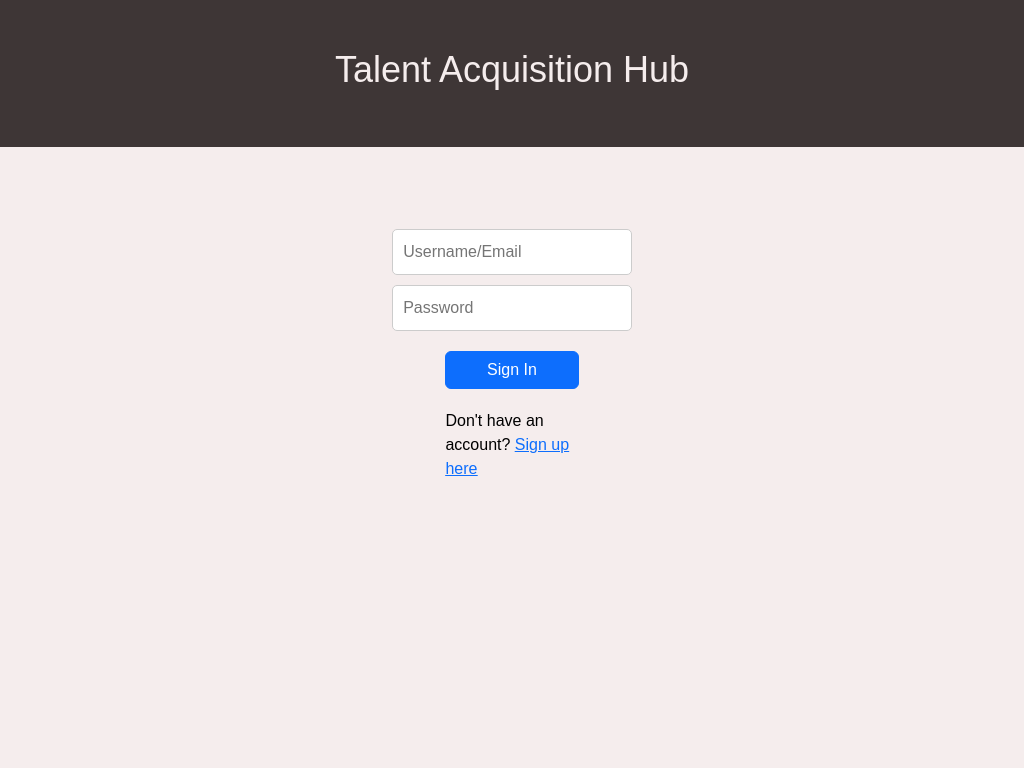
it: Login Page › should show an error message for invalid credentials
Type "invalidemail@example.com" into the field with placeholder "Username/Email".
click(512, 252); type("invalidemail@example.com")  # box [392, 229, 632, 275]
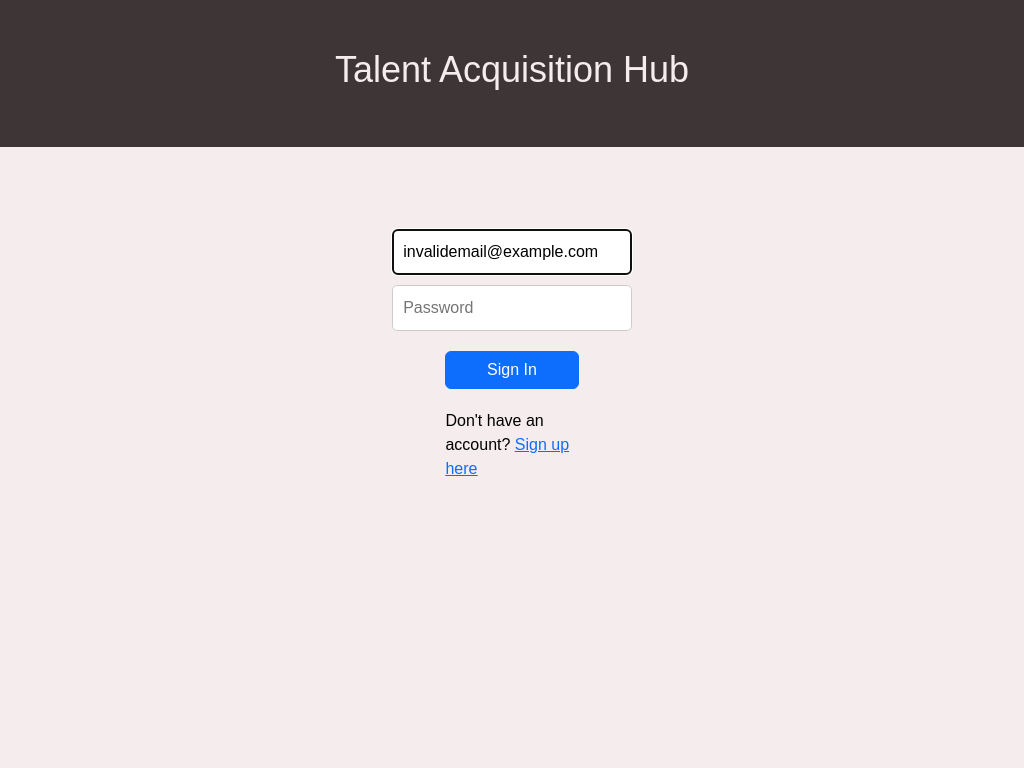
Type "invalidpassword" into the password field with placeholder "Password".
click(512, 308); type("invalidpassword")  # box [392, 285, 632, 331]
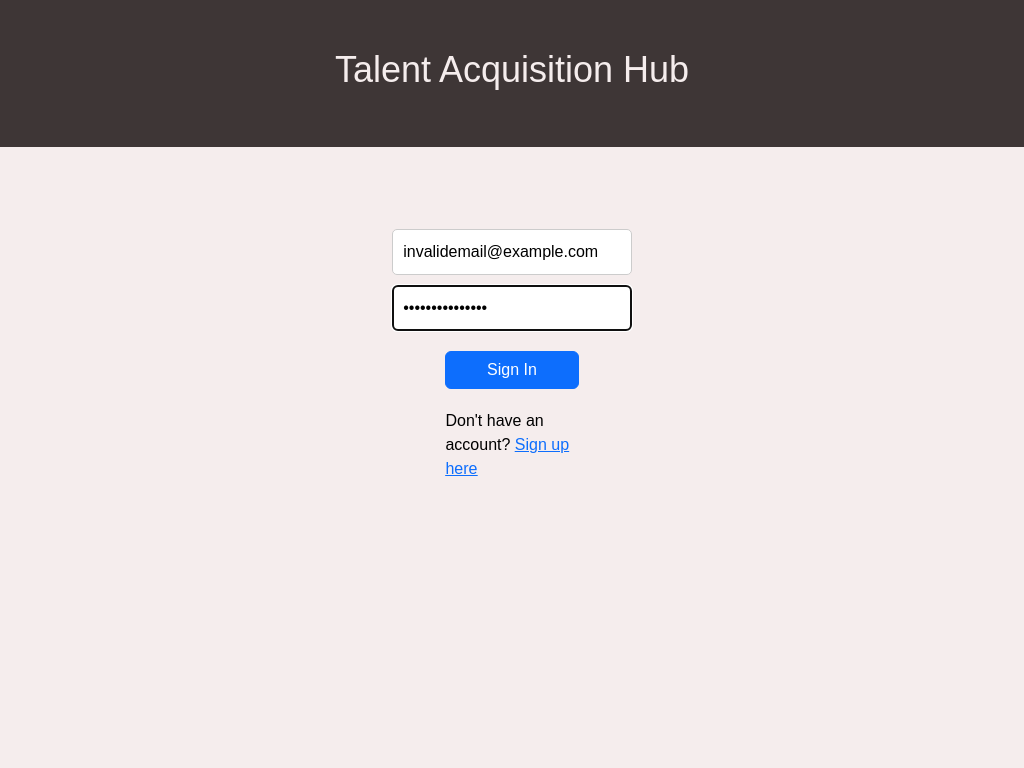
Click the button with class "cyan-button".
click(512, 370)  # box [445, 351, 578, 389]
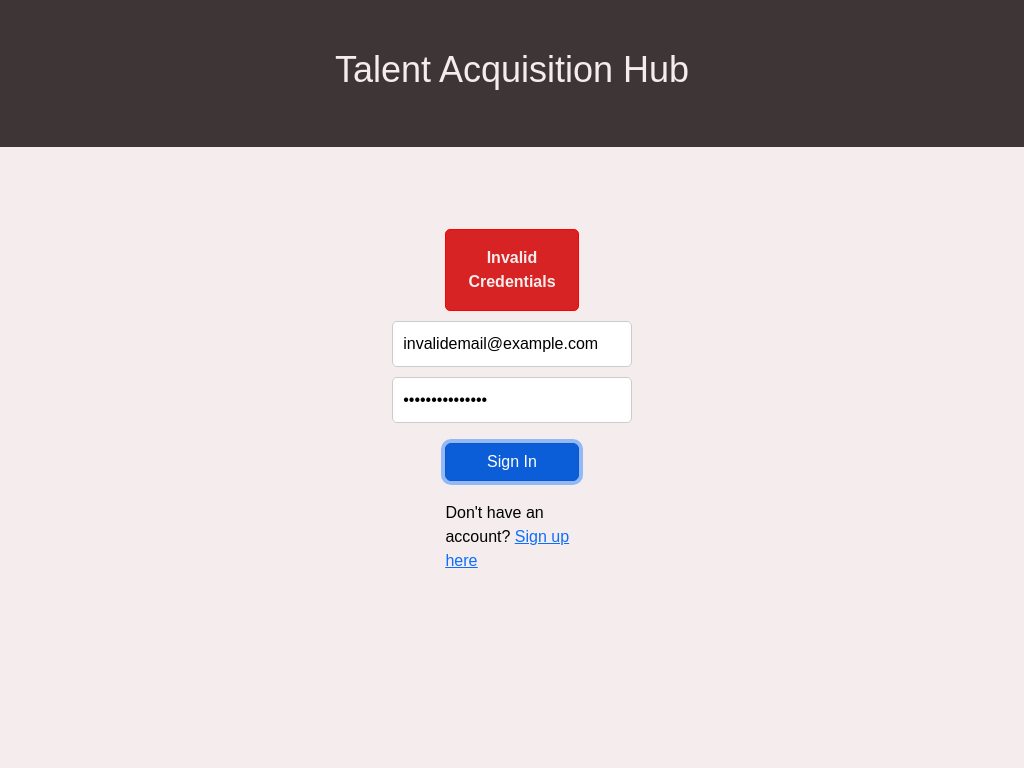
Expected: the text with class "errorMsg" reads "Invalid Credentials", [445, 229, 578, 311]
